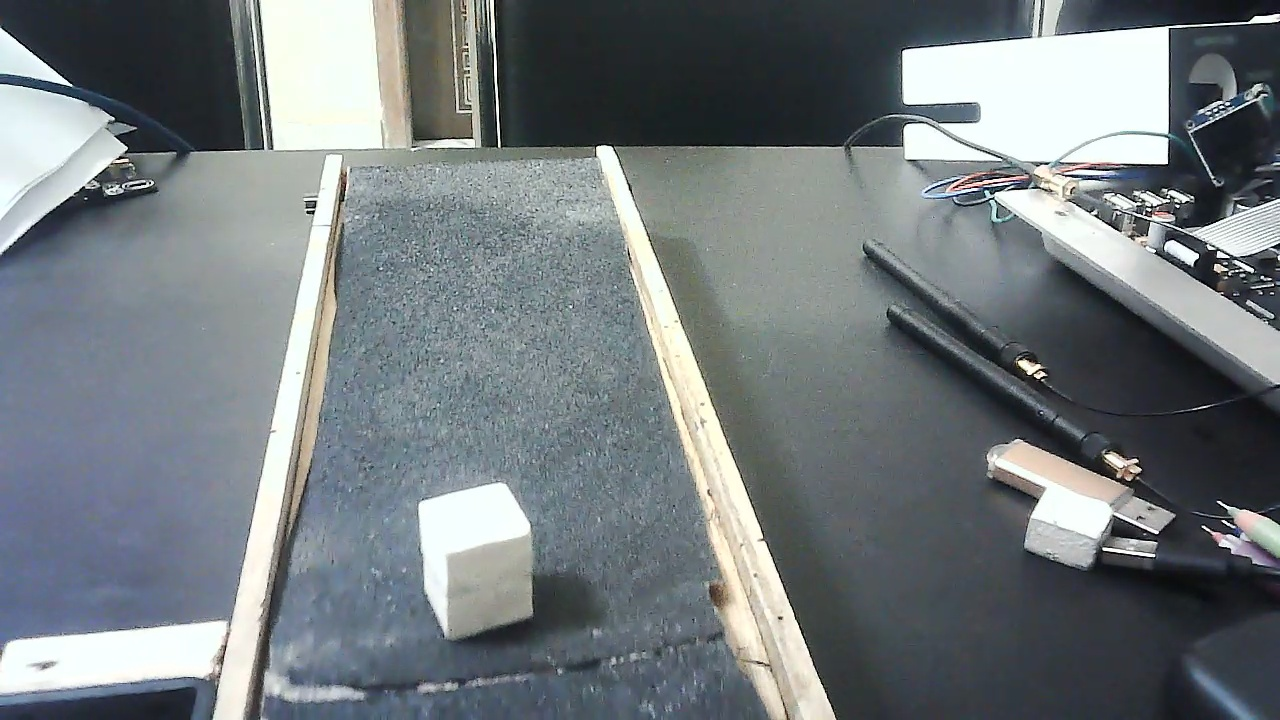Small: (397, 482, 558, 643)
